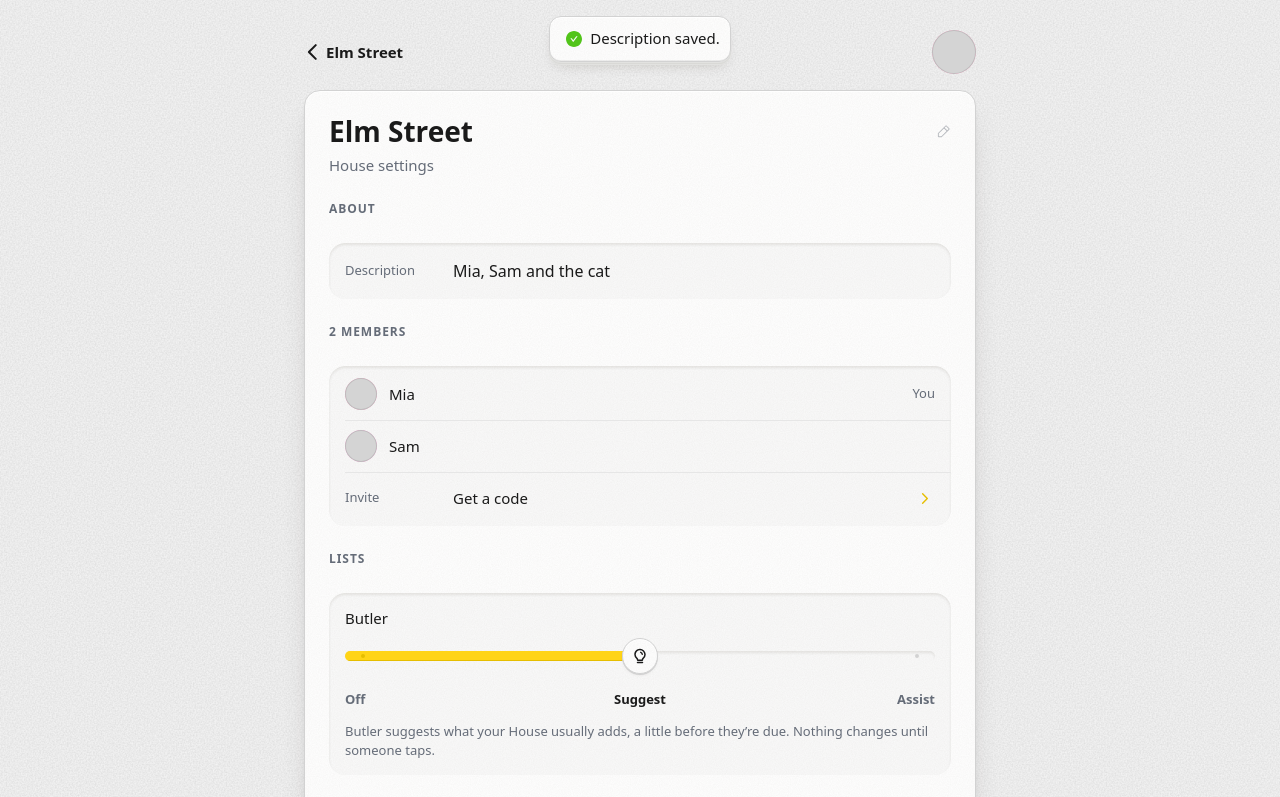
Scenario: House settings › checks the House name rule where it is typed
Type "!" into the field named "House name".
click(626, 131); type("!")  # box top-left (325, 115), bottom-right (928, 147)
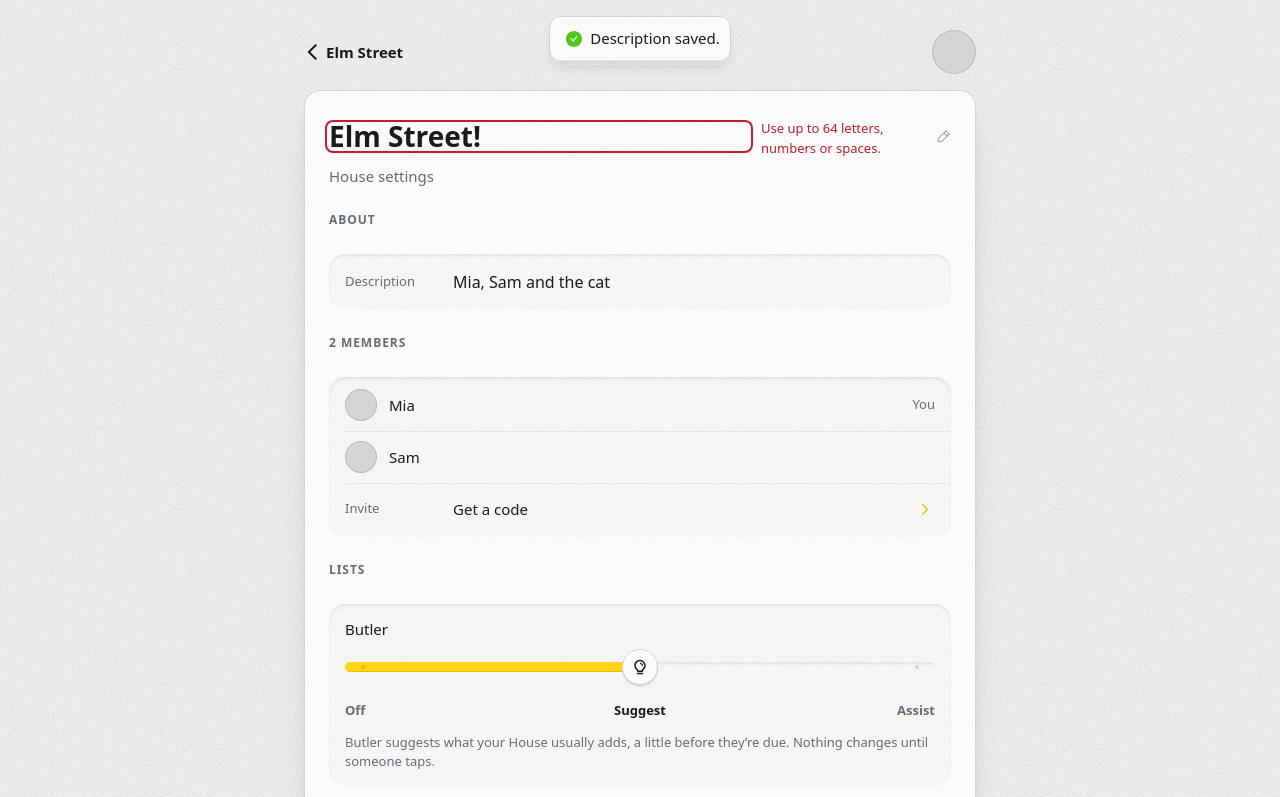
Now the message shows "letters, numbers or spaces", box top-left (761, 119), bottom-right (883, 156)
